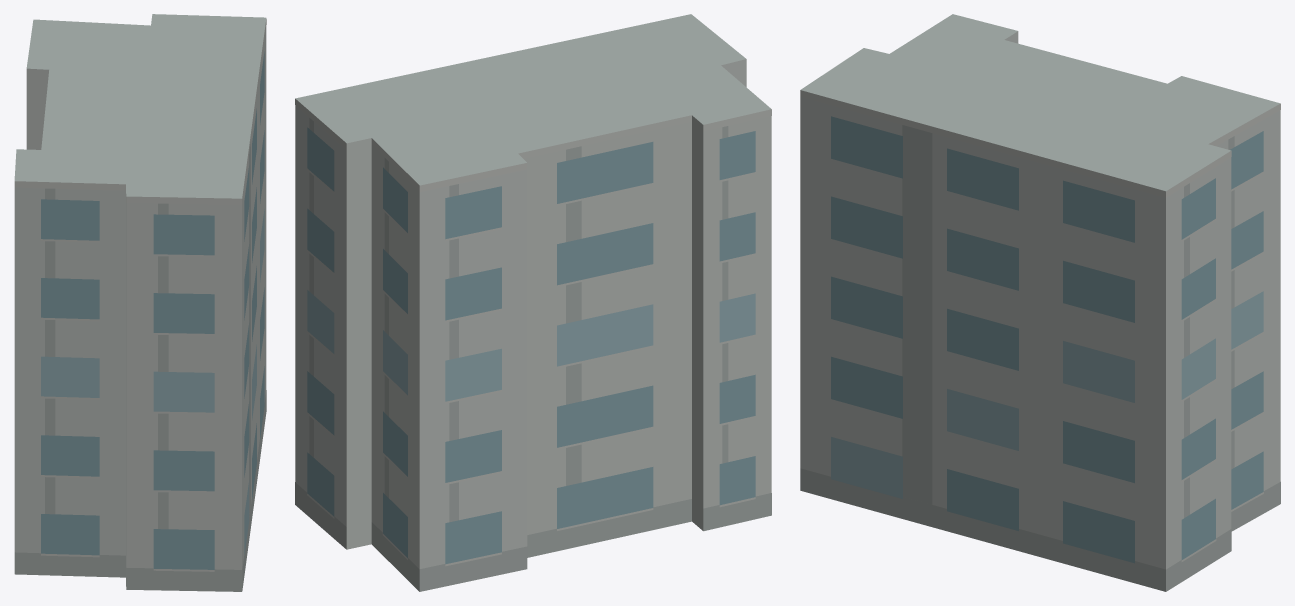
File: survey-upis-33032771.glb
3 views of the same model, side by side, from view 1: azimuth 30°, elevation 25°; view 2: azimuth 150°, elevation 25°; view 3: azimuth 270°, elevation 25° (orthographic). The views are drawn at different scales.
Parts seen in each view (by area): view 1: survey-upis-33032771.tmp; view 2: survey-upis-33032771.tmp; view 3: survey-upis-33032771.tmp.
Part boxes in pixels (x1=…): survey-upis-33032771.tmp: x1=14, y1=14, x2=266, y2=591; survey-upis-33032771.tmp: x1=295, y1=14, x2=771, y2=591; survey-upis-33032771.tmp: x1=800, y1=14, x2=1280, y2=591.
Bounding box in the file's own units: 14.05 × 14.8 × 16.1.
